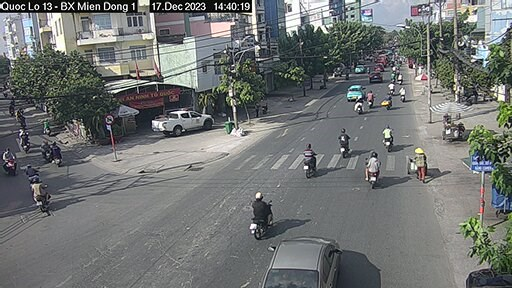car: (274, 234, 338, 288), (152, 110, 213, 137), (347, 81, 367, 102), (370, 68, 385, 82)
motorbike: (250, 190, 275, 236), (361, 153, 384, 192), (28, 180, 53, 215), (336, 125, 357, 162), (296, 142, 315, 176), (383, 122, 401, 153), (384, 97, 397, 114), (367, 90, 376, 105)
